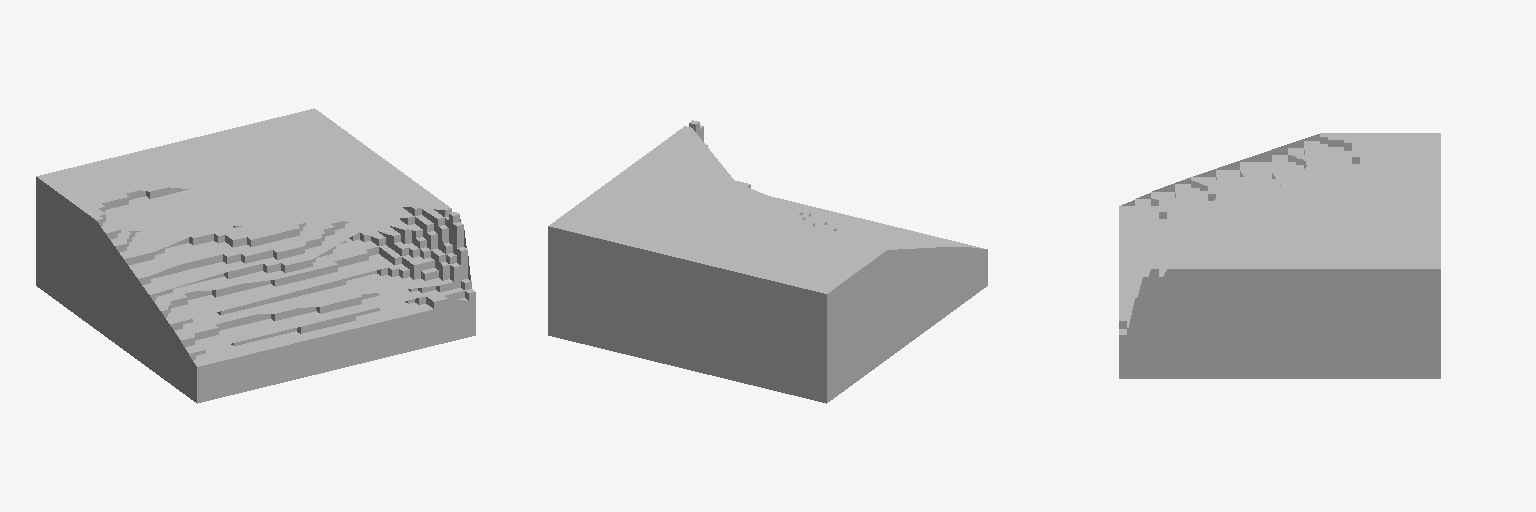
The model's file is ElevEPP.obj.
The picture shows the model from 3 angles: view 1: azimuth 30°, elevation 25°; view 2: azimuth 150°, elevation 25°; view 3: azimuth 270°, elevation 25°; orthographic projection.
Visible parts, largest first — view 1: Untitled; view 2: Untitled; view 3: Untitled.
Boxes of the visible parts, box(x1,y1,x2,y2) form: Untitled: box(36, 108, 475, 403); Untitled: box(548, 120, 987, 403); Untitled: box(1119, 133, 1440, 378).
Size of the model in its own units: 4 by 1.5 by 4.